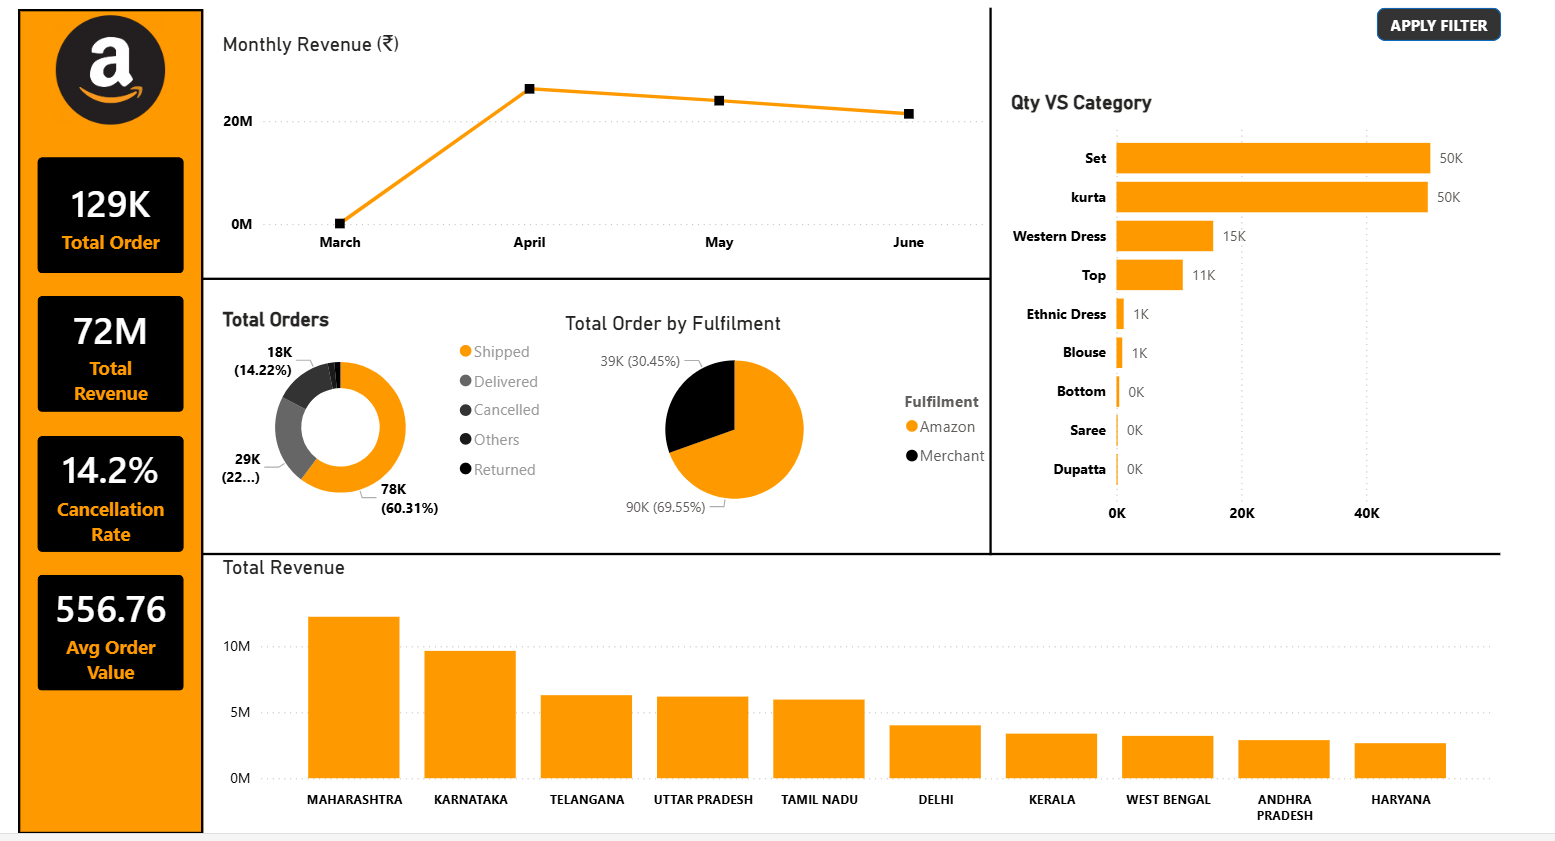

This screenshot's page, from the dashboard's own definition file:
{"tool":"powerbi","page":{"name":"Page 1","canvas":[1280,720],"ordinal":0},"visuals":[{"type":"shape","title":"bar","box":[0,8.3,160,712.3],"z":0},{"type":"image","box":[30.6,13.9,98.8,94.6],"z":0,"group":"g1"},{"type":"barChart","title":"Qty VS Category","fields":{"Y":["CountNonNull(sales.Qty)"],"Category":["sales.Category"]},"box":[852.5,78.7,427.5,383.8],"z":1000,"group":"g2"},{"type":"cardVisual","fields":{"Data":["sales.Total Order"]},"box":[0,119.6,160,135],"z":1000,"group":"g1"},{"type":"columnChart","title":"Total Revenue","fields":{"Category":["sales.ship-state"],"Y":["sales.Total Revenue"]},"box":[171.9,480.5,1108,239.7],"z":1000},{"type":"shape","box":[1172.5,7.5,107.5,28.8],"z":1500,"group":"g2"},{"type":"cardVisual","fields":{"Data":["sales.Total Revenue"]},"box":[0,239.3,160,135],"z":2000,"group":"g1"},{"type":"pieChart","fields":{"Category":["sales.Fulfilment"],"Y":["sales.Total Order"]},"box":[467.5,269.9,384,185],"z":2000},{"type":"lineChart","title":"Monthly Revenue (₹)","fields":{"Y":["sales.Total Revenue"],"Category":["sales.Date.Variation.Date Hierarchy.Month"]},"box":[171.9,28.3,668.2,200.1],"z":3000},{"type":"cardVisual","fields":{"Data":["sales.Cancellation Rate"]},"box":[0,360.3,160,135],"z":3000,"group":"g1"},{"type":"donutChart","title":"Total Orders","fields":{"Y":["sales.Total Order"],"Category":["sales.Status group"]},"box":[171.9,266.8,294,187.7],"z":4000},{"type":"cardVisual","fields":{"Data":["sales.Avg Order Value"]},"box":[0,480,160,135],"z":4000,"group":"g1"},{"type":"shape","title":"line3","box":[160,448,1120,62.6],"z":5000},{"type":"shape","title":"line2","box":[160,215.7,680.3,51.5],"z":6000},{"type":"shape","title":"line1","box":[815.2,7.9,49.7,472.6],"z":7000},{"type":"group","id":"g1","title":"Group 1","box":[0,13.9,160,601],"z":8000},{"type":"group","id":"g2","title":"Group 2","box":[852.5,7.5,427.5,455],"z":10000}]}

Visuals, with their boxes in screenshot pixels (x1, y1, x2, y2):
"bar" shape: [12,0,197,795]
image: [47,0,161,89]
"Qty VS Category" barChart: [996,54,1489,497]
cardVisual - sales.Total Order: [12,102,197,257]
"Total Revenue" columnChart: [210,518,1489,794]
shape: [1365,0,1489,5]
cardVisual - sales.Total Revenue: [12,240,197,395]
pieChart - sales.Fulfilment x sales.Total Order: [551,275,995,488]
"Monthly Revenue (₹)" lineChart: [210,0,981,227]
cardVisual - sales.Cancellation Rate: [12,379,197,535]
"Total Orders" donutChart: [210,271,550,488]
cardVisual - sales.Avg Order Value: [12,517,197,673]
"line3" shape: [197,480,1489,553]
"line2" shape: [197,212,982,272]
"line1" shape: [953,0,1010,518]
"Group 1" group: [12,0,197,673]
"Group 2" group: [996,0,1489,497]
